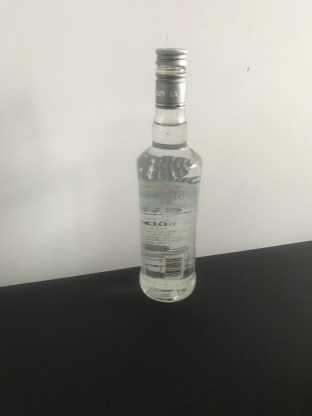nakretka: (154, 46, 188, 109)
